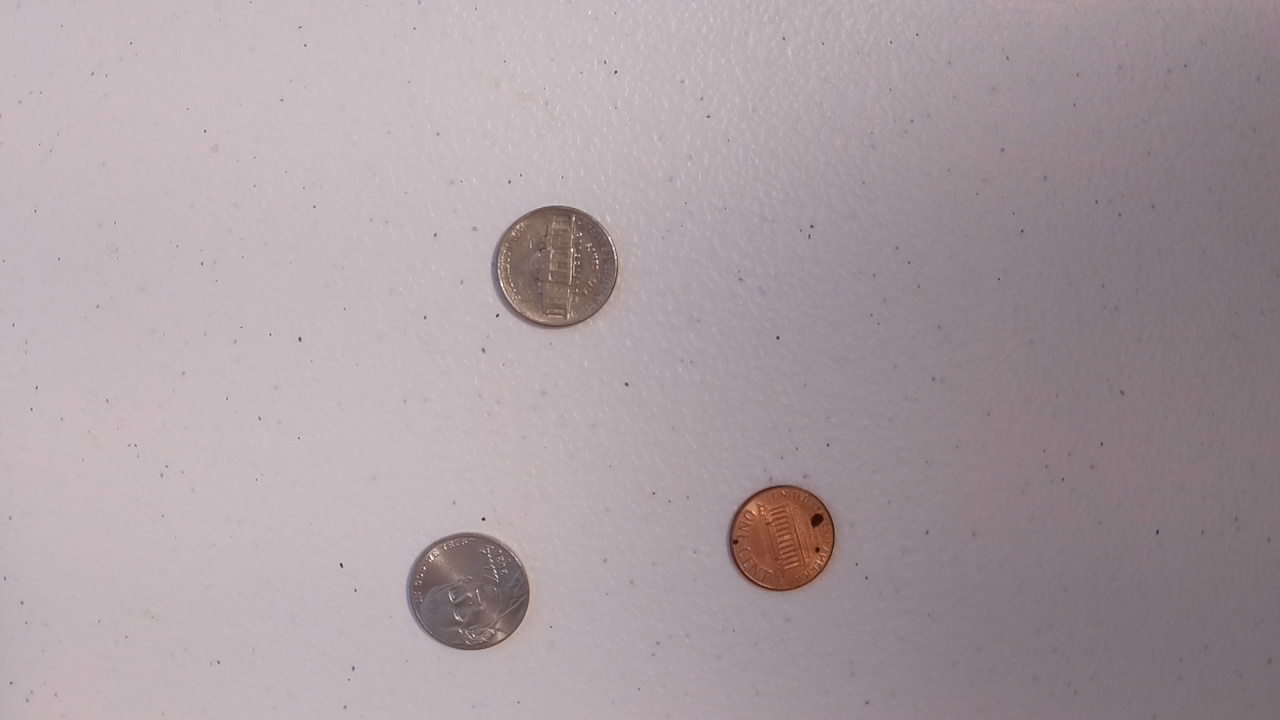nickel: (493, 203, 625, 331), (400, 531, 538, 653)
penny: (726, 480, 840, 594)
